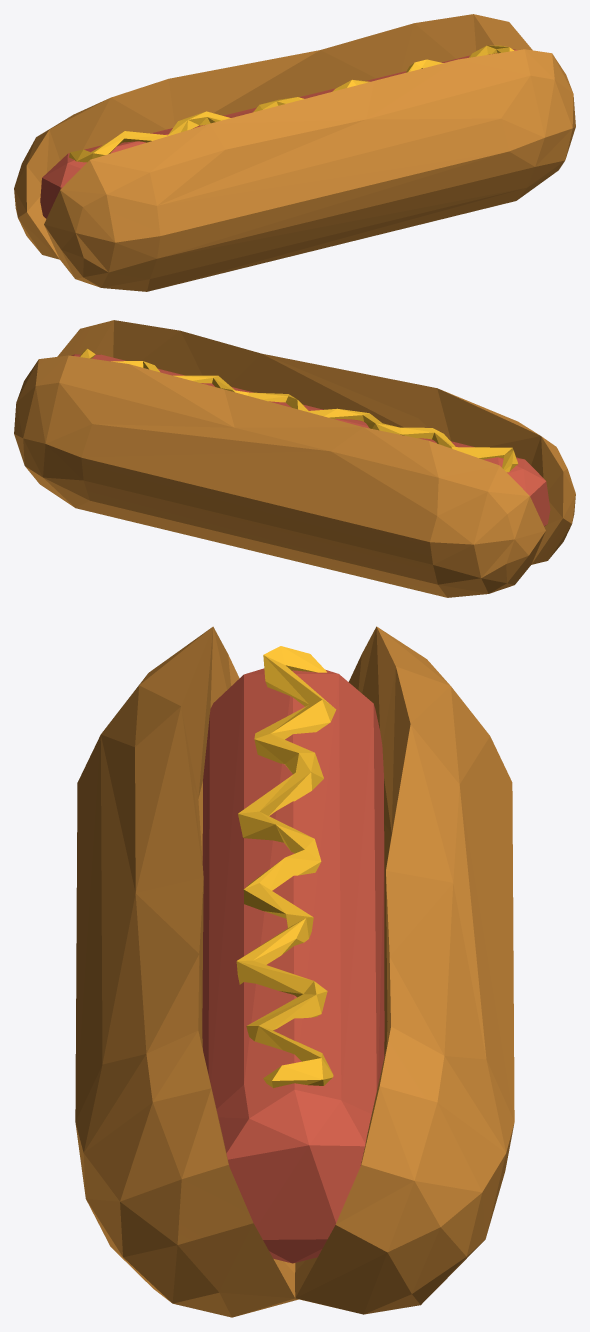
Rendered from SM_Food_Hotdog_01.fbx.
3 renders of one model, top to bottom at view 1: azimuth 30°, elevation 25°; view 2: azimuth 150°, elevation 25°; view 3: azimuth 270°, elevation 25°, orthographic. The views are drawn at different scales.
Visible parts, largest first — view 1: SM_Food_Hotdog_01; view 2: SM_Food_Hotdog_01; view 3: SM_Food_Hotdog_01.
Boxes of the visible parts, left/top/right/bottom form: SM_Food_Hotdog_01: left=14, top=14, right=575, bottom=291; SM_Food_Hotdog_01: left=14, top=320, right=575, bottom=597; SM_Food_Hotdog_01: left=75, top=626, right=514, bottom=1317.
Bounding box in the file's own units: 0.2181 × 0.0617 × 0.0801.
